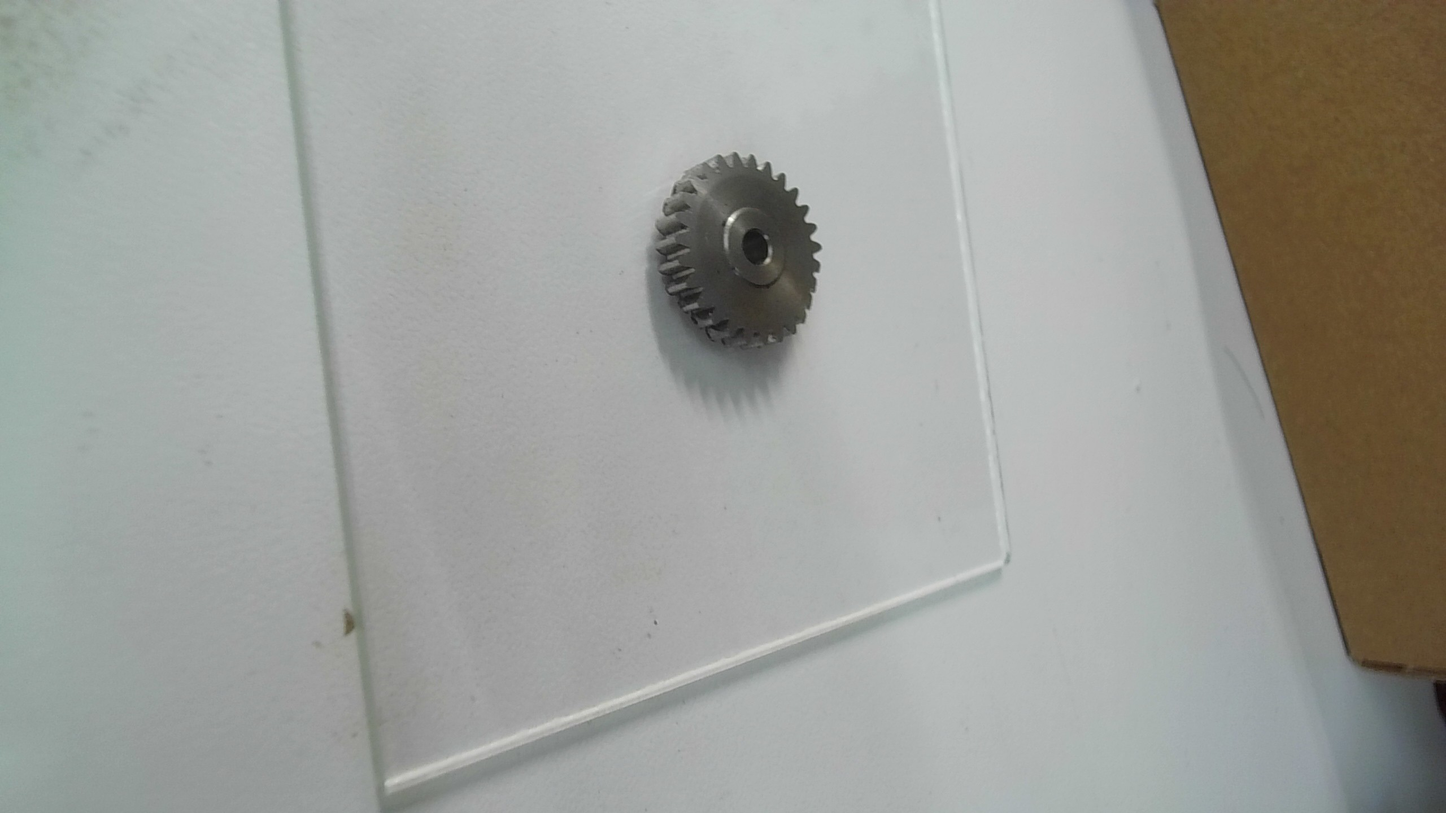gear: (654, 151, 826, 361)
